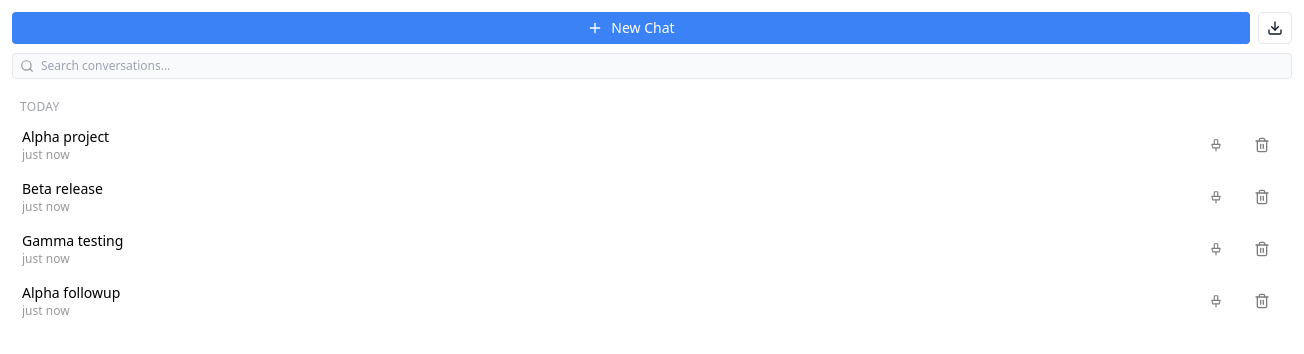
Scenario: Search result count badge › shows count matching all conversations when query matches all
This screenshot has width=1304, height=354.
expect the text "Alpha project" is shown: met, box [22,127,109,146]
Type "a" into the field with test id "conversation-search" at (652, 66), box [12,53,1292,79]
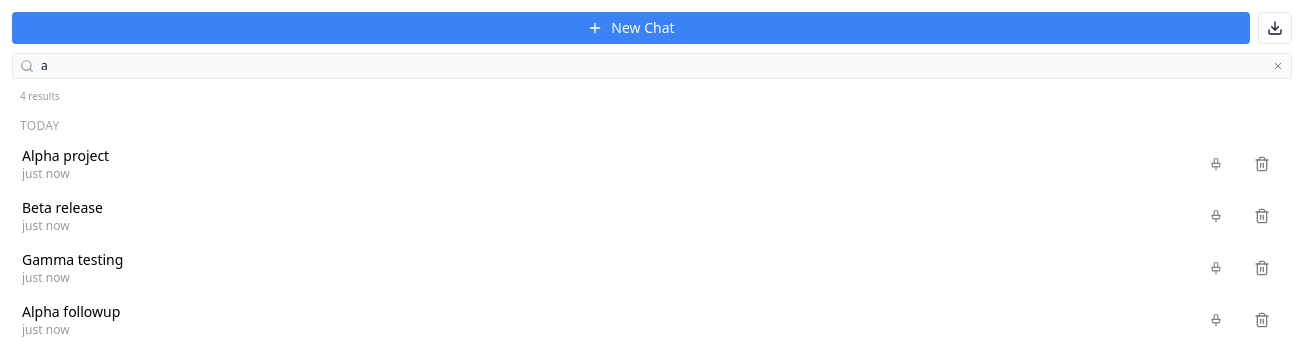
expect the text with test id "search-result-count" reads "4 results": met, box [20,89,60,103]
